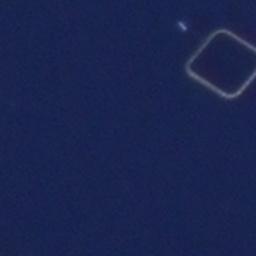square_bigger: (179, 26, 256, 103)
